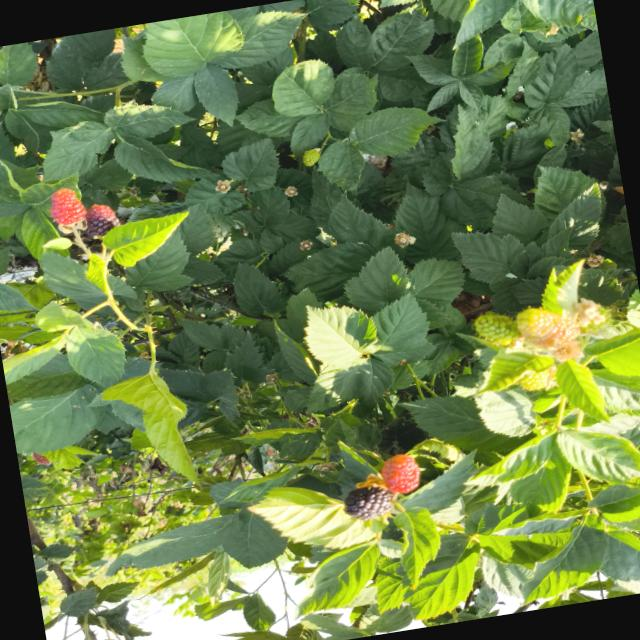maduro: (344, 486, 393, 520)
marron: (86, 204, 120, 237)
naranja: (381, 455, 421, 494), (50, 189, 86, 226)
verde: (516, 308, 578, 340), (474, 312, 518, 346), (516, 366, 556, 391), (303, 149, 320, 166)
